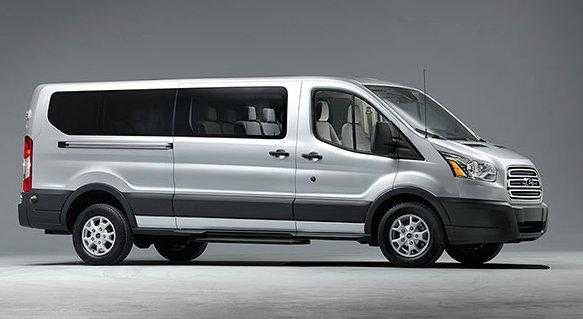van: (18, 73, 550, 268)
